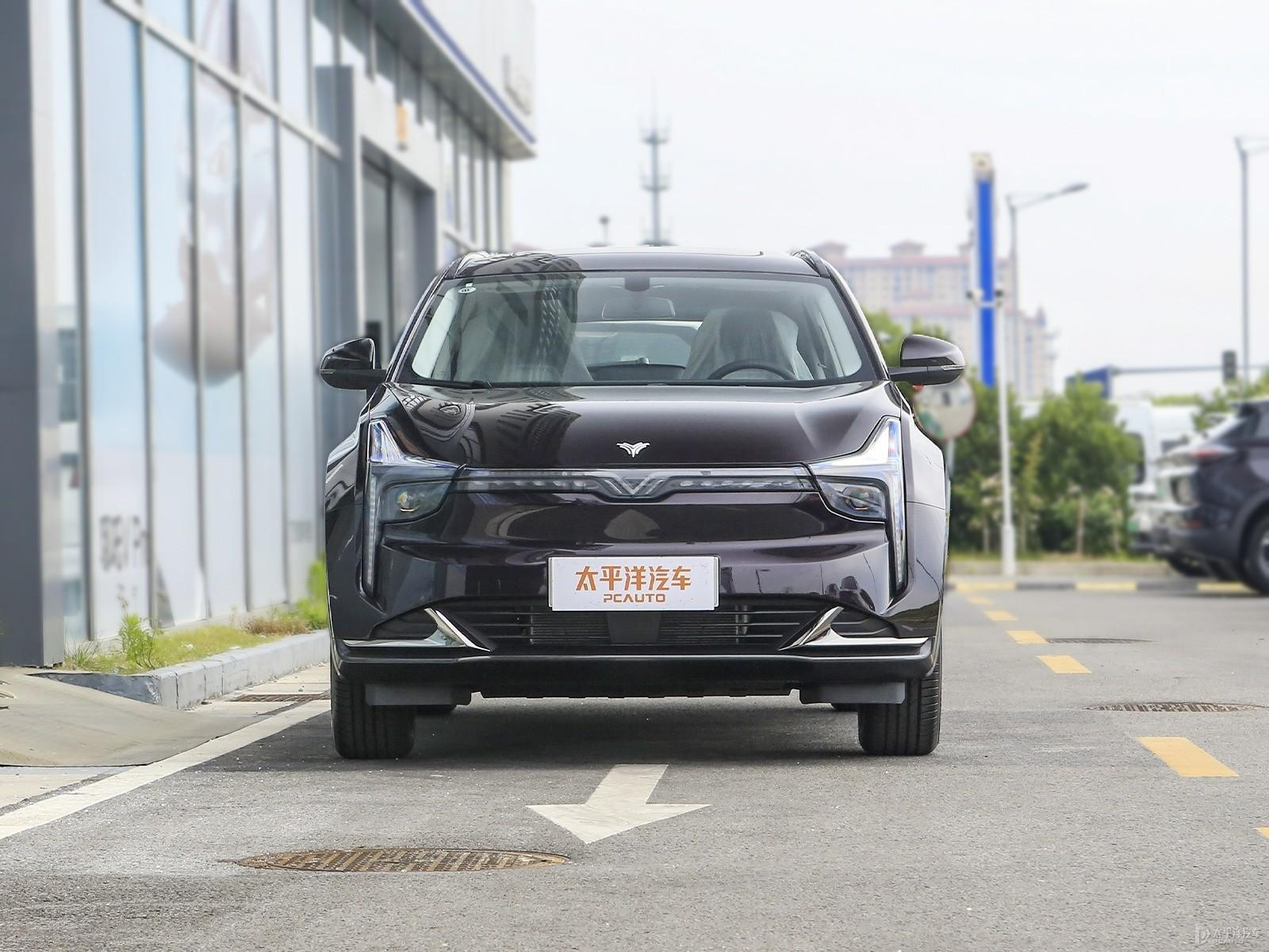NETA: (614, 440, 651, 460)
